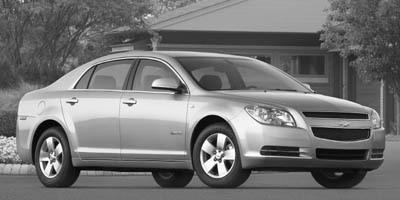car: (16, 52, 388, 191)
